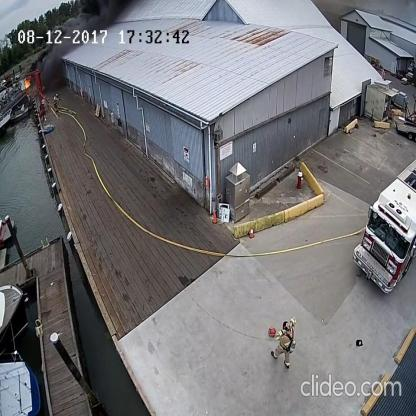fire: (22, 74, 36, 99)
